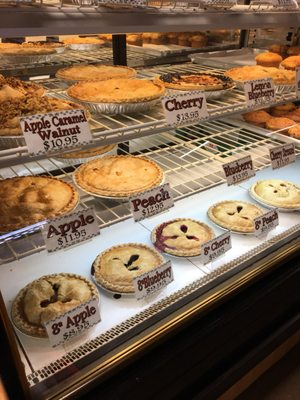salad: (0, 175, 79, 234), (92, 243, 166, 294), (152, 219, 215, 257), (208, 200, 263, 233), (252, 178, 300, 209), (266, 117, 296, 131)
sandwich: (65, 78, 165, 103), (158, 73, 228, 90)
